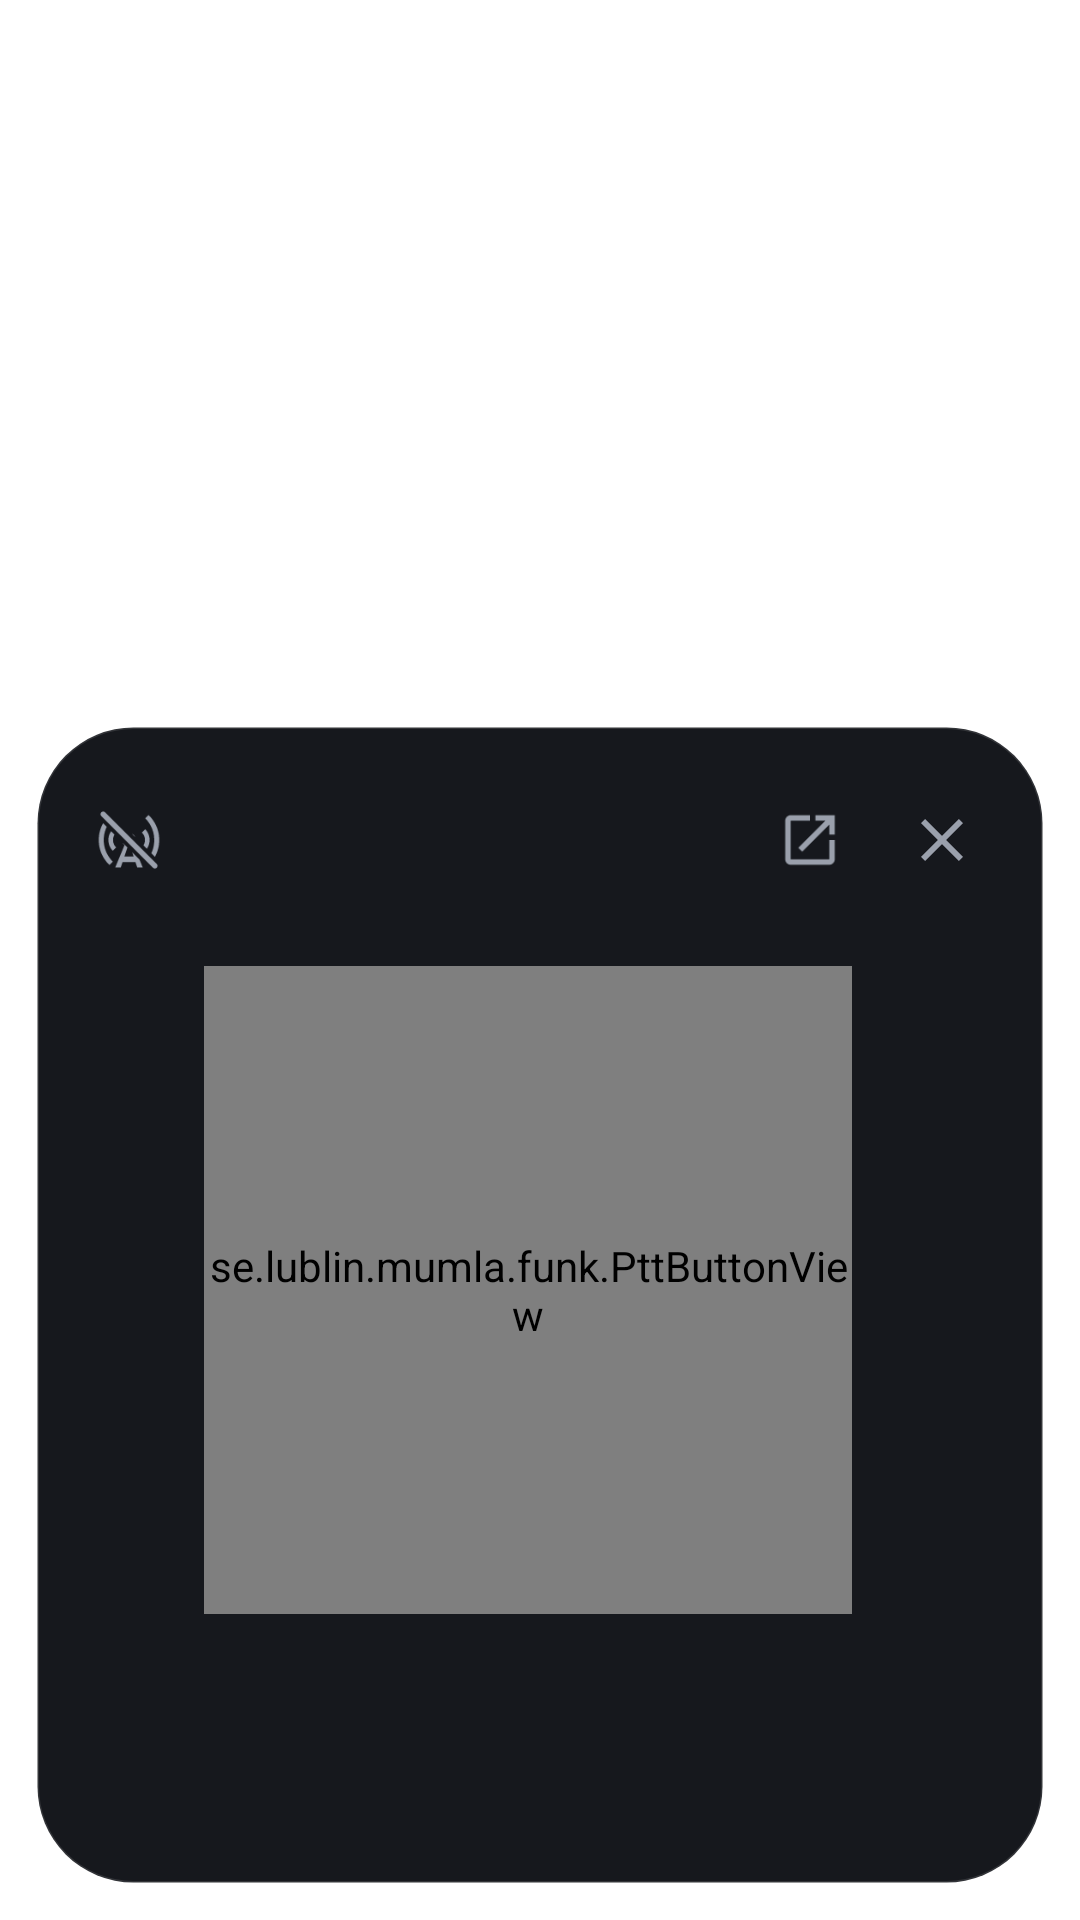

Point at icon controls on the screen. Image size 1080 x 1920, points as point (x, y).
Close: point (942, 840)
funk tower off: point (129, 840)
Open app: point (810, 840)
